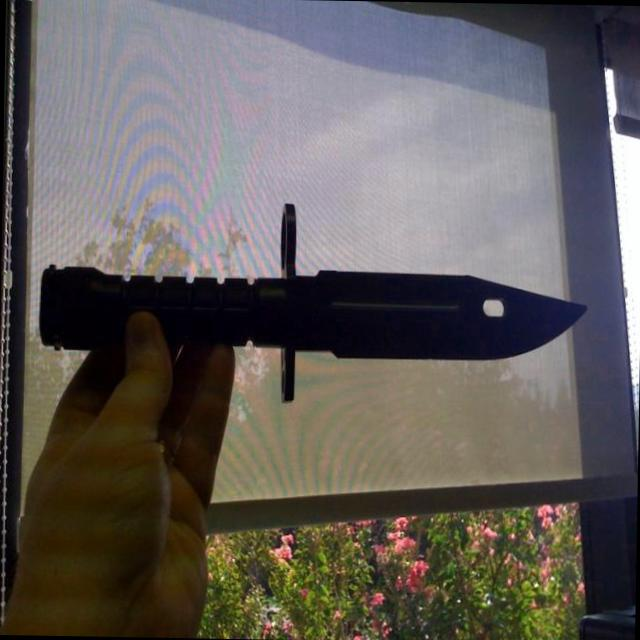Knife: (40, 203, 584, 401)
